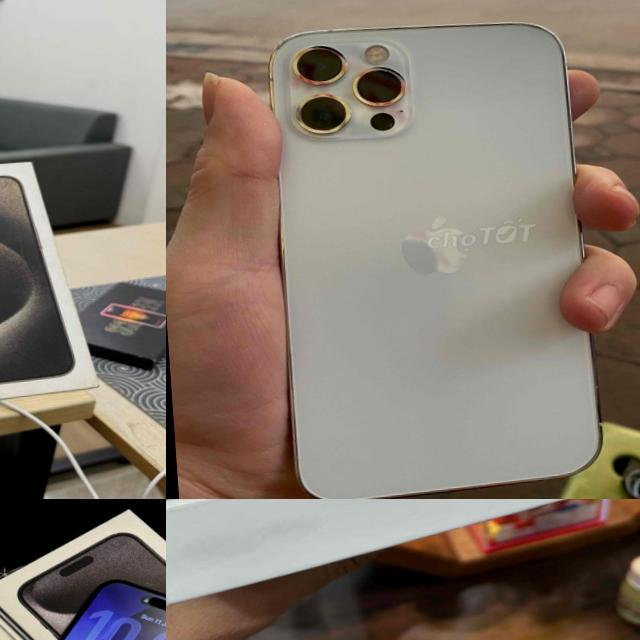gen_12_13: (249, 3, 619, 499)
gen_15: (0, 568, 166, 640)
